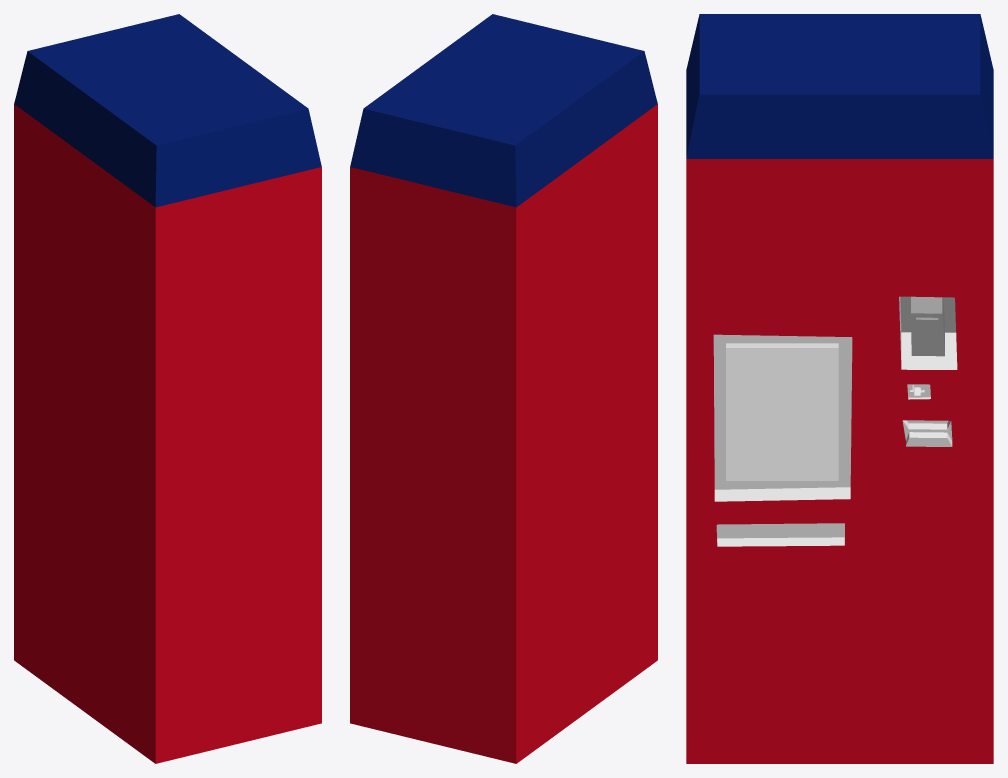
The model's file is final_ticketautomat_rot_blau.fbx.
The picture shows the model from 3 angles, left to right: view 1: azimuth 30°, elevation 25°; view 2: azimuth 150°, elevation 25°; view 3: azimuth 270°, elevation 25°; orthographic projection. The views are drawn at different scales.
Visible parts, largest first — view 1: Ticketautomat; view 2: Ticketautomat; view 3: Ticketautomat.
Boxes of the visible parts, x1=… form: Ticketautomat: x1=14, y1=14, x2=321, y2=763; Ticketautomat: x1=350, y1=14, x2=657, y2=763; Ticketautomat: x1=686, y1=14, x2=993, y2=763.
Size of the model in its own units: 145 by 478 by 200.
